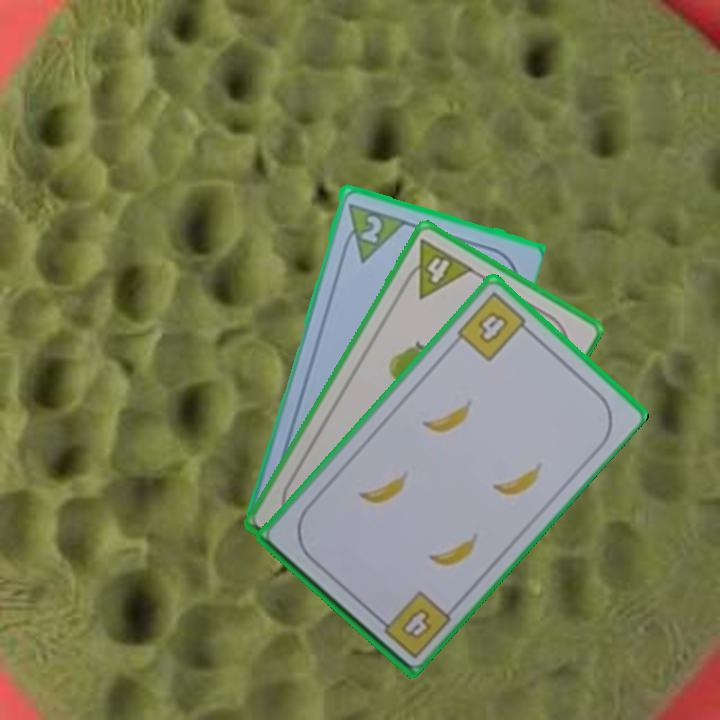2p: (357, 211, 385, 246)
4b: (452, 288, 535, 365), (371, 587, 454, 661)
4p: (397, 235, 476, 302)
